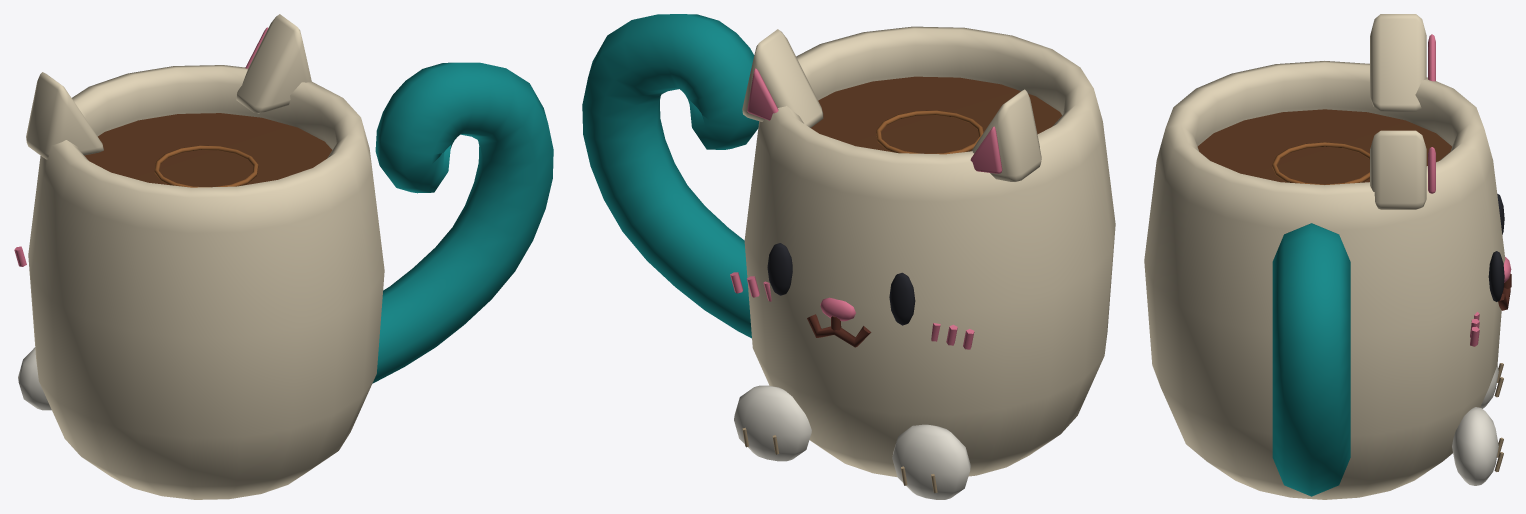
The model's file is cat_mug.glb.
3 renders of one model, left to right at view 1: azimuth 30°, elevation 25°; view 2: azimuth 150°, elevation 25°; view 3: azimuth 270°, elevation 25°, orthographic. The views are drawn at different scales.
Visible parts, largest first — view 1: CatMugRoot_Geometry; view 2: CatMugRoot_Geometry; view 3: CatMugRoot_Geometry.
Part boxes in pixels (box(x1,y1,x2,y2)): CatMugRoot_Geometry: box(14, 14, 553, 499); CatMugRoot_Geometry: box(582, 14, 1115, 499); CatMugRoot_Geometry: box(1144, 14, 1511, 499).
Bounding box in the file's own units: 0.6467 × 0.4746 × 0.415.
